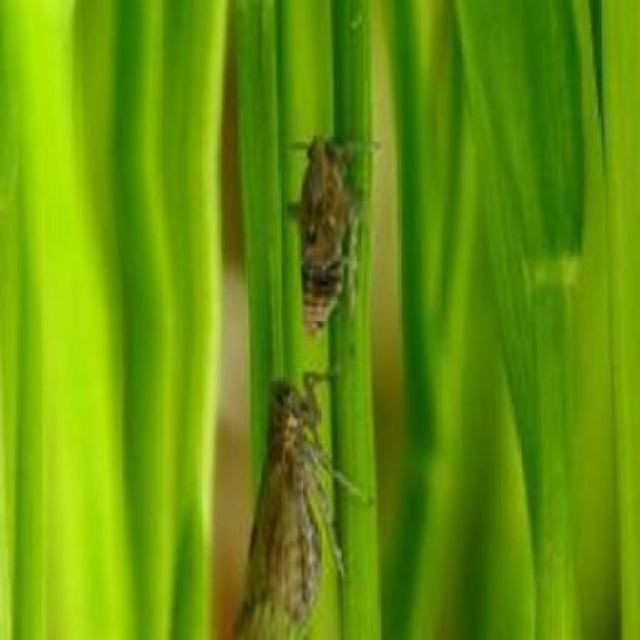brown-planthopper: (241, 363, 347, 640), (295, 123, 356, 340)
